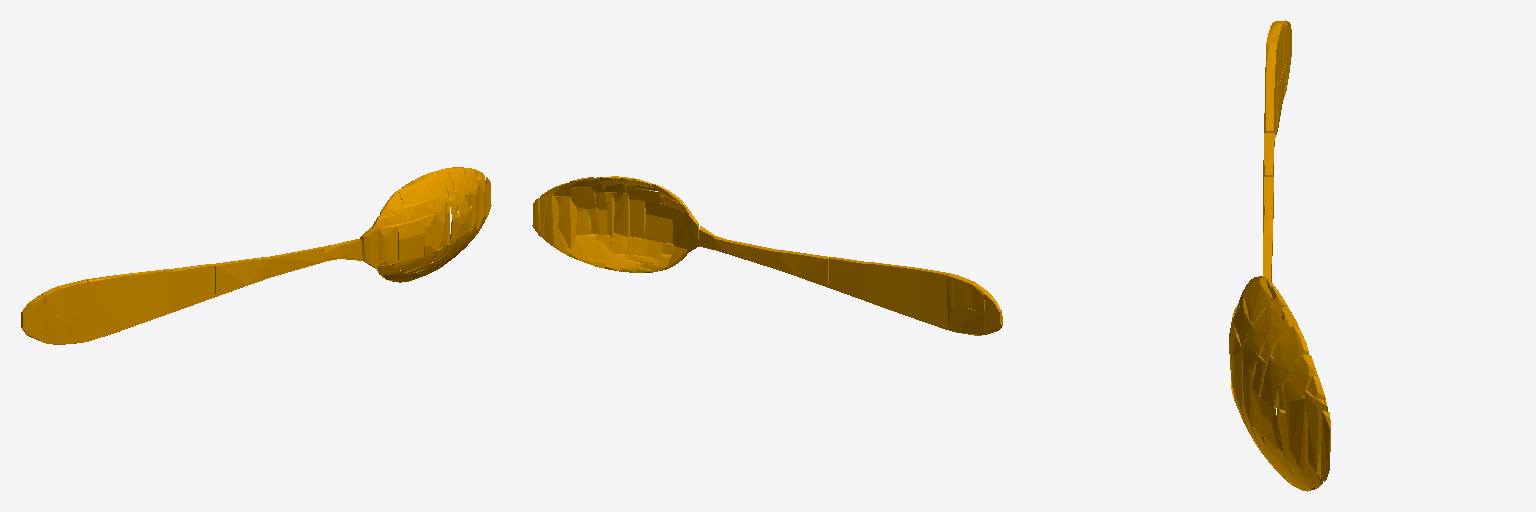
URDF robot description (cutlery-spoon):
<?xml version="1.0" ?>
<robot name="cutlery-spoon">
  <link name="baseLink">
    <contact>
      <lateral_friction value="1.0"/>
      <inertia_scaling value="3.0"/>
    </contact>
    <inertial>
      <origin rpy="0 0 0" xyz="0.000 0.000 0.000"/>
       <mass value=".1"/>
       <inertia ixx="1" ixy="0.0" ixz="0.0" iyy="1" iyz="0.0" izz="1"/>
    </inertial>
    <visual>
      <origin rpy="0 0 0" xyz="0 0 0"/>
      <geometry>
        <mesh filename="cutlery/cutlery-spoon_1_new.obj" scale="1.0 1.0 1.0"/>
      </geometry>
    </visual>
    <collision>
      <origin rpy="0 0 0" xyz="0 0 0"/>
      <geometry>
        <mesh filename="../collision/cutlery/cutlery-spoon_1_new.obj" scale="1.0 1.0 1.0"/>
      </geometry>
    </collision>
  </link>
</robot>
        

--- Render facts (derived) ---
Views: 3 orthographic renders of the robot side by side, from view 1: azimuth 30°, elevation 25°; view 2: azimuth 150°, elevation 25°; view 3: azimuth 270°, elevation 25°.
Model cutlery-spoon with 1 links and 0 joints (none), rooted at baseLink, posed every joint at zero.
Links seen in each view (by area): view 1: baseLink; view 2: baseLink; view 3: baseLink.
Boxes of the visible links, x1,y1,x2,y2 form: baseLink: (21, 167, 491, 344); baseLink: (532, 176, 1002, 335); baseLink: (1229, 20, 1330, 491).
Size in the robot's own frame: 0.1602 by 0.0171 by 0.0316 metres.
1 mesh visuals loaded from 1 distinct referenced files (1 OBJ).